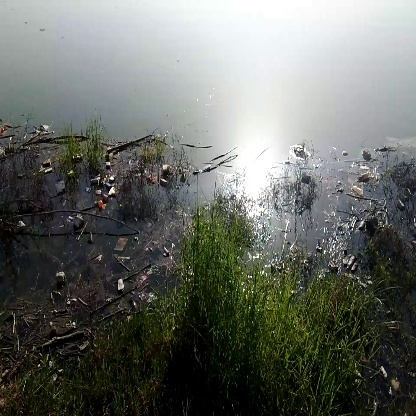branch: (103, 127, 162, 160)
